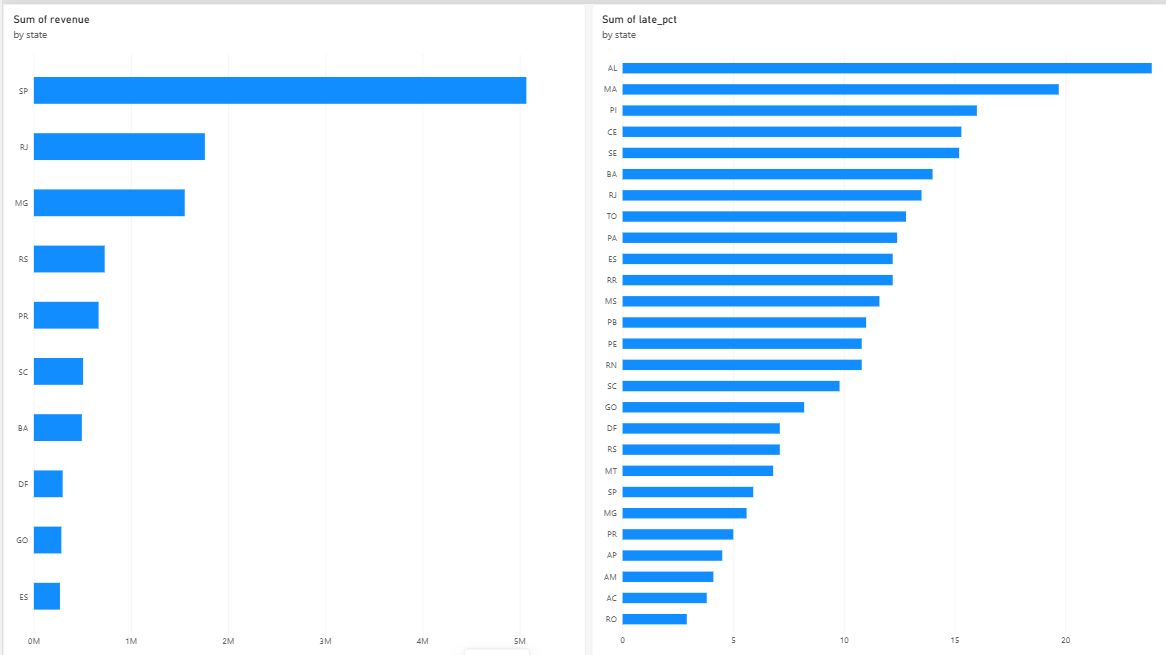

Layout of this report page (visuals, bound fields, positions):
{"tool":"powerbi","page":{"name":"Page 4","canvas":[1920,1080],"ordinal":3},"visuals":[{"type":"clusteredBarChart","fields":{"Category":["q4_top_10_customer_states_by_revenue.state"],"Y":["Sum(q4_top_10_customer_states_by_revenue.revenue)"]},"box":[0,0,959.2,1080.6],"z":0},{"type":"clusteredBarChart","fields":{"Category":["q5_delivery_performance_by_state_late_delivered_after_the_es.state"],"Y":["Sum(q5_delivery_performance_by_state_late_delivered_after_the_es.late_pct)"]},"box":[969,0,951,1080],"z":1}]}

Visuals, with their boxes in screenshot pixels (x1, y1, x2, y2), scaled from the page's 1920x1080 canvas onto the 1166x655 screenshot:
clusteredBarChart - q4_top_10_customer_states_by_revenue.state x Sum(q4_top_10_customer_states_by_revenue.revenue): [x1=0, y1=0, x2=583, y2=654]
clusteredBarChart - q5_delivery_performance_by_state_late_delivered_after_the_es.state x Sum(q5_delivery_performance_by_state_late_delivered_after_the_es.late_pct): [x1=588, y1=0, x2=1165, y2=654]
